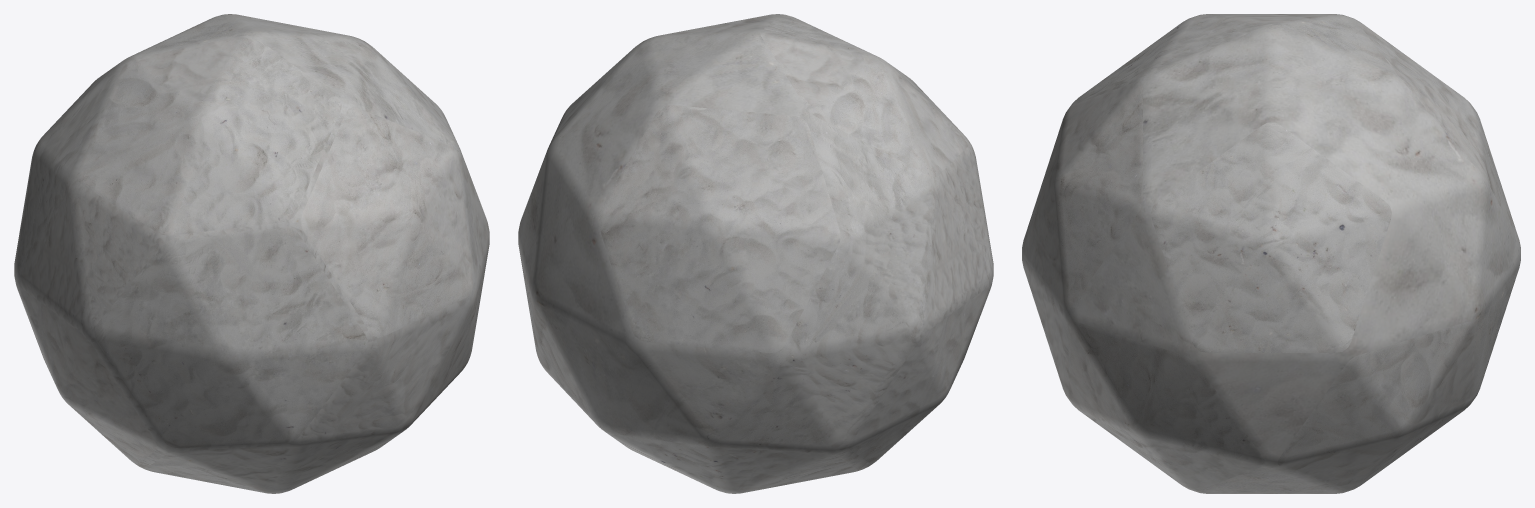
Rendered from sandball.gltf.
The picture shows the model from 3 angles, left to right: view 1: azimuth 30°, elevation 25°; view 2: azimuth 150°, elevation 25°; view 3: azimuth 270°, elevation 25°; orthographic projection. The views are drawn at different scales.
Parts seen in each view (by area): view 1: Icosphere; view 2: Icosphere; view 3: Icosphere.
Part boxes in pixels (x1,y1,x2,y2): Icosphere: (14, 14, 489, 493); Icosphere: (518, 14, 993, 493); Icosphere: (1022, 14, 1520, 493).
Size of the model in its own units: 0.9483 by 0.9884 by 0.9856.
Materials: 1 (1 with a texture image).
